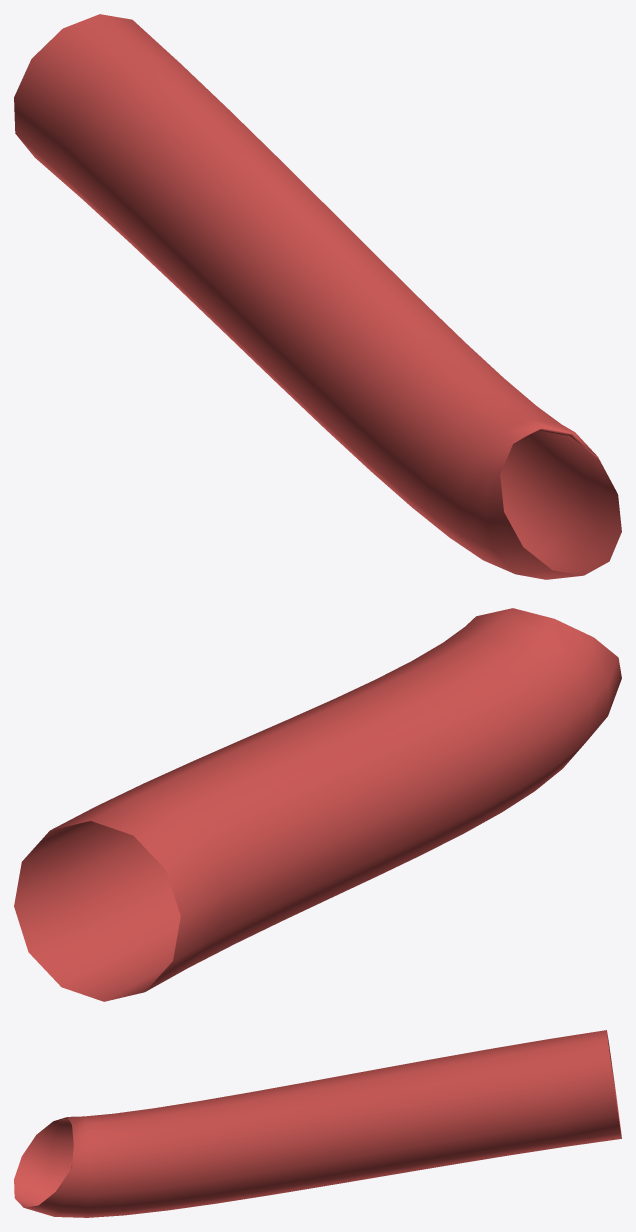
3 views of the same model, one above another, from view 1: azimuth 30°, elevation 25°; view 2: azimuth 150°, elevation 25°; view 3: azimuth 270°, elevation 25° (orthographic). The views are drawn at different scales.
Visible parts, largest first — view 1: 左侧甲状颈干; view 2: 左侧甲状颈干; view 3: 左侧甲状颈干.
Part boxes in pixels (x1,y1,x2,y2): 左侧甲状颈干: (14, 14, 621, 579); 左侧甲状颈干: (14, 608, 621, 1001); 左侧甲状颈干: (14, 1030, 621, 1217).
Size of the model in its own units: 0.00387 by 0.00545 by 0.0179.
